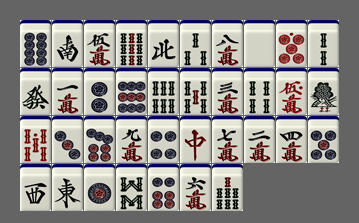0m: (276, 68, 307, 115)
0p: (276, 20, 307, 67)
0s: (20, 116, 51, 163)
1m: (52, 68, 83, 115)
1p: (84, 164, 115, 211)
1s: (308, 68, 339, 115)
1z: (52, 164, 83, 211)
2m: (244, 116, 275, 163)
2p: (84, 68, 115, 115)
2s: (308, 20, 339, 67)
2z: (52, 20, 83, 67)
3m: (212, 68, 243, 115)
3p: (52, 116, 83, 163)
3s: (180, 20, 211, 67)
3z: (20, 164, 51, 211)
4m: (276, 116, 307, 163)
4p: (148, 116, 179, 163)
4s: (244, 68, 275, 115)
4z: (148, 20, 179, 67)
5m: (84, 20, 115, 67)
5p: (308, 116, 339, 163)
5s: (180, 68, 211, 115)
5z: (244, 20, 275, 67)
6m: (180, 164, 211, 211)
6p: (148, 164, 179, 211)
6s: (148, 68, 179, 115)
6z: (20, 68, 51, 115)
7m: (212, 116, 243, 163)
7p: (84, 116, 115, 163)
7s: (212, 164, 243, 211)
7z: (180, 116, 211, 163)
8m: (212, 20, 243, 67)
8p: (20, 20, 51, 67)
8s: (116, 164, 147, 211)
9m: (116, 116, 147, 163)
9p: (116, 68, 147, 115)
9s: (116, 20, 147, 67)
